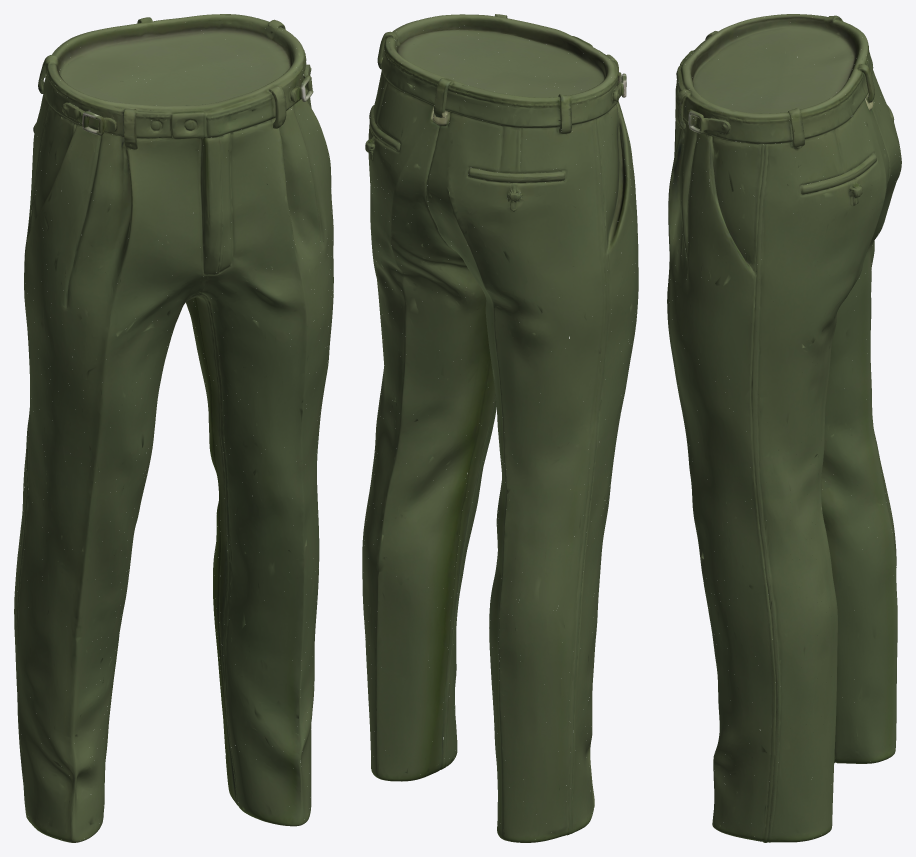
File: pantalone.glb
The picture shows the model from 3 angles, left to right: view 1: azimuth 30°, elevation 25°; view 2: azimuth 150°, elevation 25°; view 3: azimuth 270°, elevation 25°; orthographic projection. The views are drawn at different scales.
Parts seen in each view (by area): view 1: tripo_node_29372daa-d7b6-4248-bcb9-5347227b7554; view 2: tripo_node_29372daa-d7b6-4248-bcb9-5347227b7554; view 3: tripo_node_29372daa-d7b6-4248-bcb9-5347227b7554.
Part boxes in pixels (x1,y1,x2,y2): tripo_node_29372daa-d7b6-4248-bcb9-5347227b7554: (14,14,333,842); tripo_node_29372daa-d7b6-4248-bcb9-5347227b7554: (362,14,638,842); tripo_node_29372daa-d7b6-4248-bcb9-5347227b7554: (667,14,901,842).
Size of the model in its own units: 0.3638 by 0.9805 by 0.2863.
Materials: 1 (1 with a texture image).
